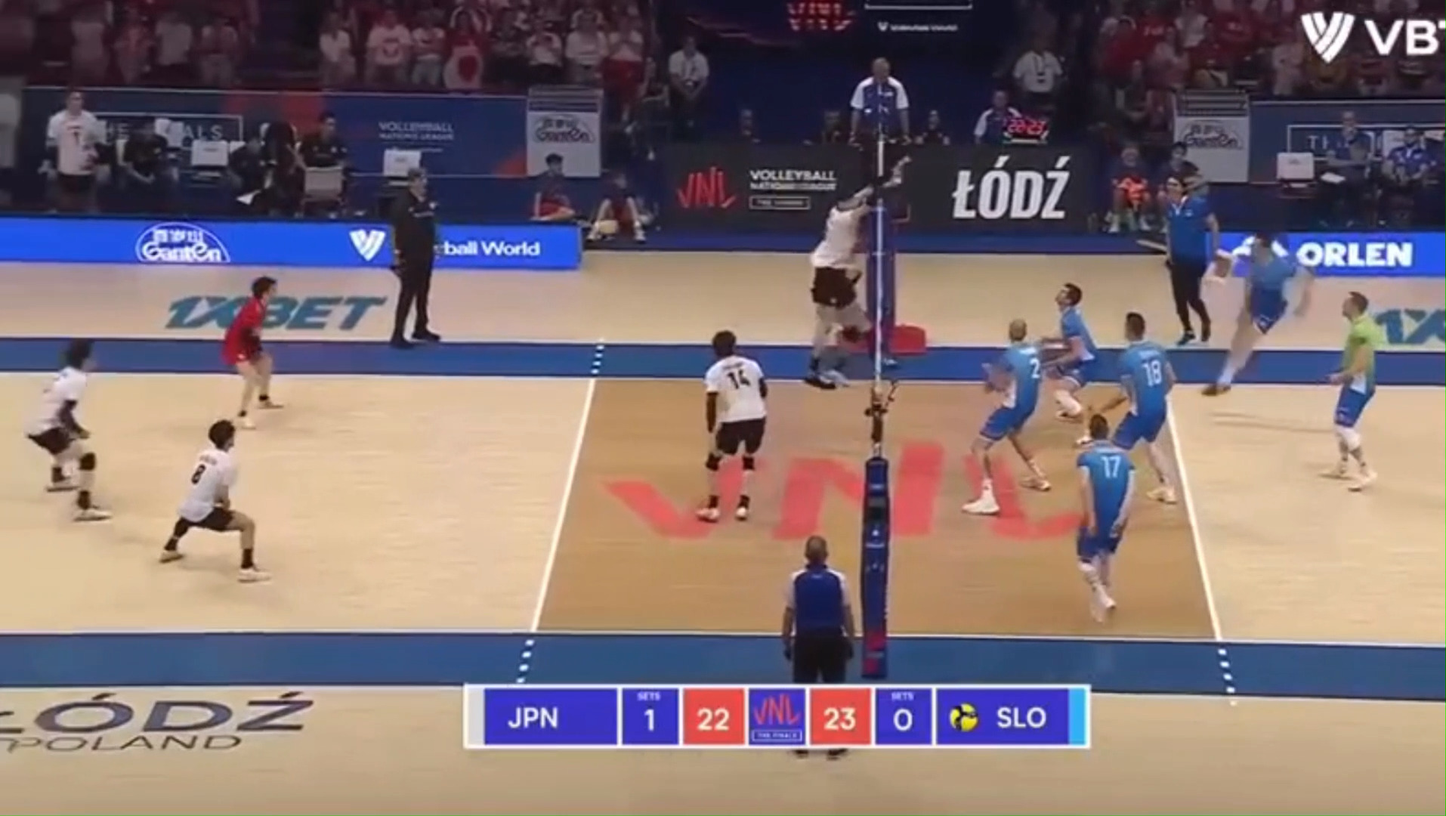player: (1202, 231, 1313, 395), (962, 319, 1050, 515), (1101, 312, 1176, 503), (1076, 414, 1135, 620), (1327, 292, 1383, 492), (1046, 283, 1102, 420)
player 1: (161, 419, 266, 581), (26, 339, 110, 521), (805, 187, 875, 388), (696, 330, 768, 523), (223, 276, 280, 426)
referee: (780, 535, 854, 683), (1165, 175, 1219, 345), (391, 168, 440, 349), (850, 57, 910, 172)
